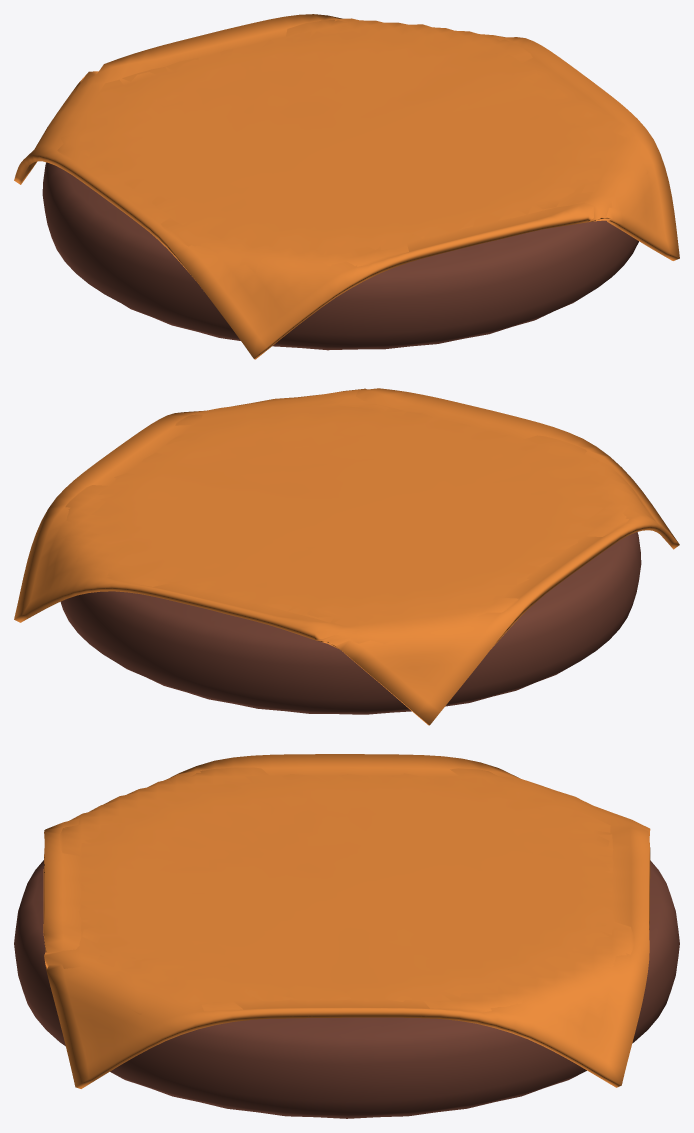
File: steakncheese.fbx
The picture shows the model from 3 angles, top to bottom: view 1: azimuth 30°, elevation 25°; view 2: azimuth 150°, elevation 25°; view 3: azimuth 270°, elevation 25°; orthographic projection. The views are drawn at different scales.
Visible parts, largest first — view 1: Plane, Circle; view 2: Plane, Circle; view 3: Plane, Circle.
Part boxes in pixels (box(x1,y1,x2,y2)): Plane: box(14, 14, 679, 359); Circle: box(42, 162, 638, 350); Plane: box(14, 388, 679, 725); Circle: box(60, 532, 641, 714); Plane: box(43, 754, 650, 1088); Circle: box(14, 860, 679, 1118).
Bounding box in the file's own units: 202 × 36.88 × 202.
